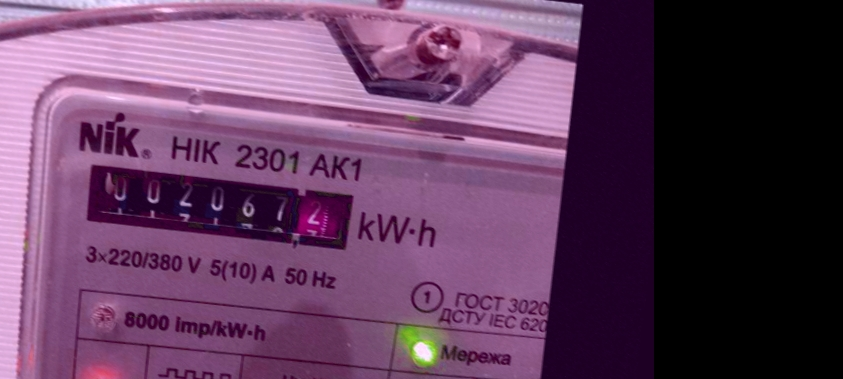0: (109, 173, 130, 204), (205, 182, 226, 212), (143, 175, 163, 206)
2: (303, 196, 324, 227), (175, 179, 196, 209)
6: (238, 189, 259, 220)
7: (270, 192, 290, 224)
screen: (69, 150, 368, 265)
